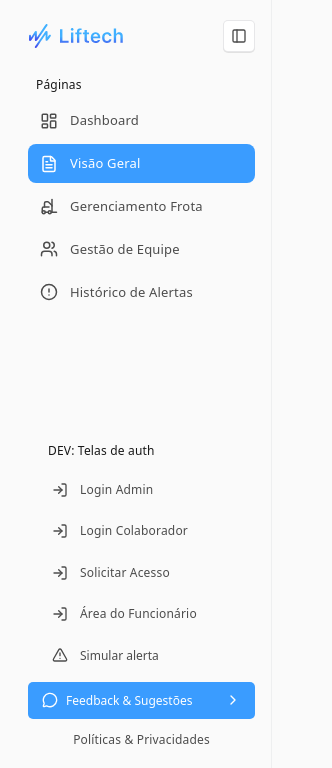
Test case: Sidebar component › navigates to the target route when a link is clicked
Click the link "Gerenciamento Frota". click: click(121, 206)
box: [40,197,203,216]
(page scrolled)
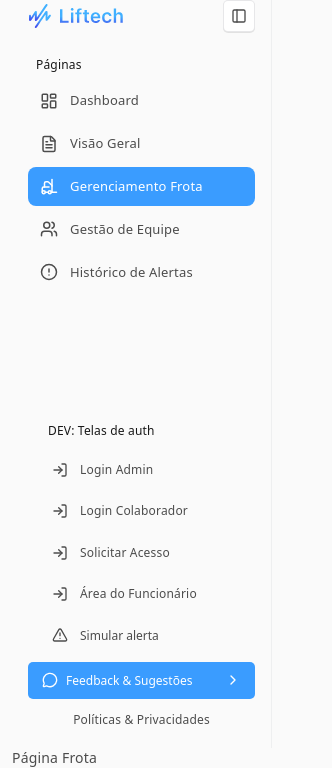
Expected: the text "Página Frota" is shown, [12,748,97,767]
